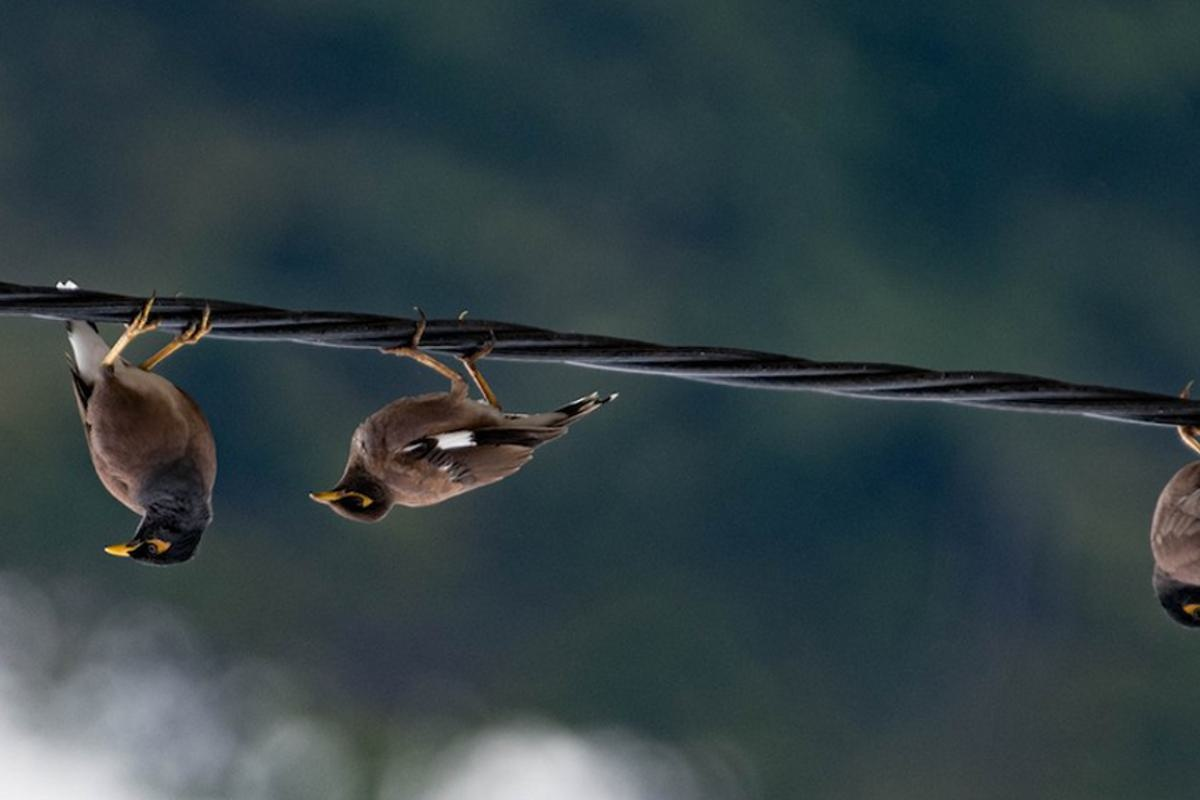myna: (294, 313, 616, 557), (50, 275, 245, 604)
